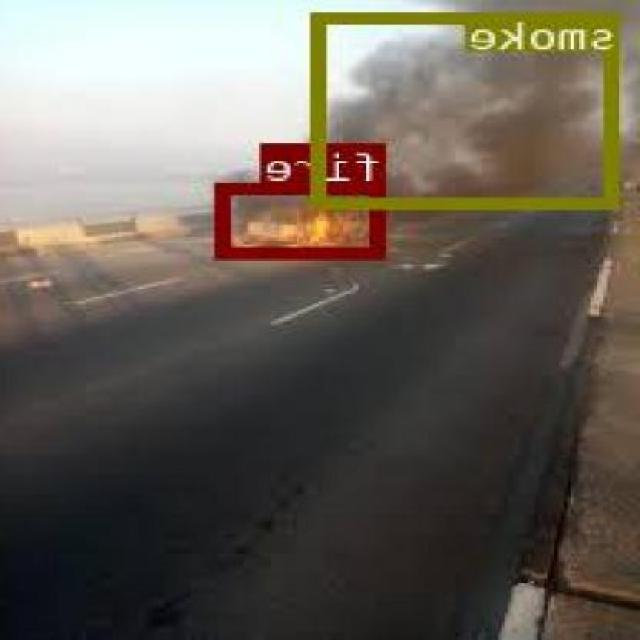Fire: (218, 182, 388, 256)
Smoke: (314, 11, 622, 208)
